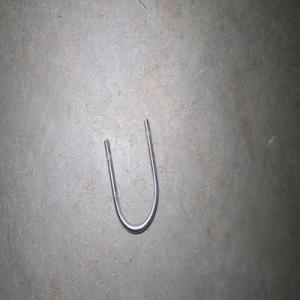ClampPart: (103, 118, 159, 234)
